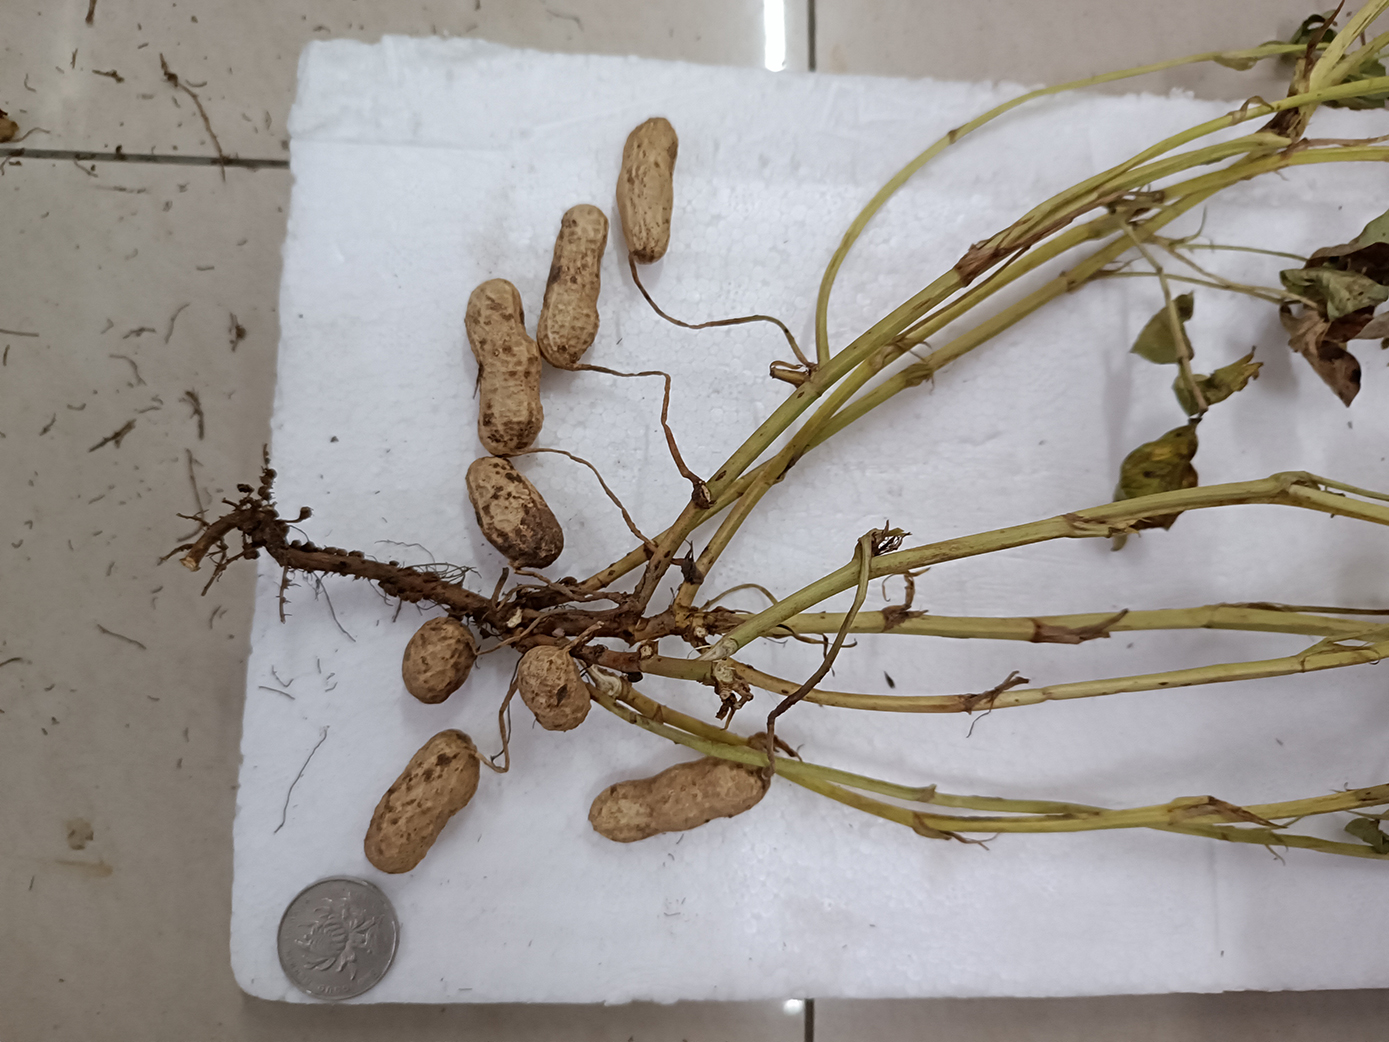h: (363, 728, 481, 875), (588, 755, 769, 843), (464, 277, 539, 456), (535, 204, 609, 364), (465, 458, 568, 567), (614, 115, 681, 262), (519, 645, 589, 732), (403, 621, 474, 704)
